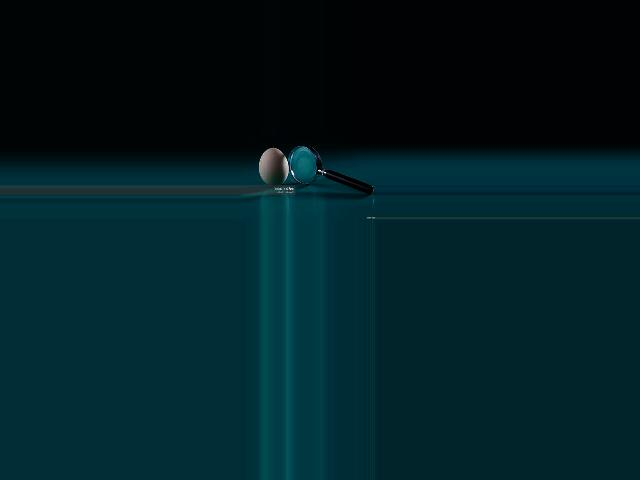egg: (258, 147, 288, 186)
